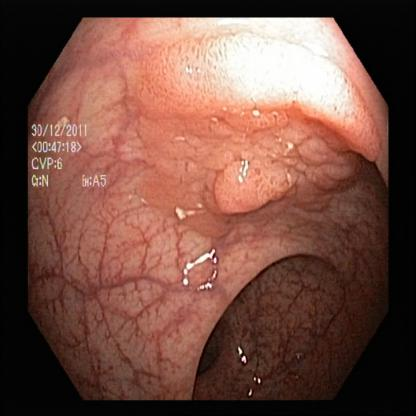Labels: (26, 120, 112, 193)
Polyps: (215, 139, 288, 221)
